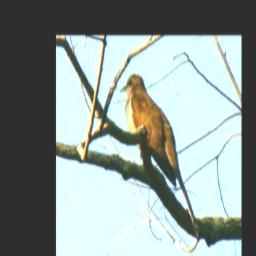Cuckoo: (120, 73, 178, 190)
